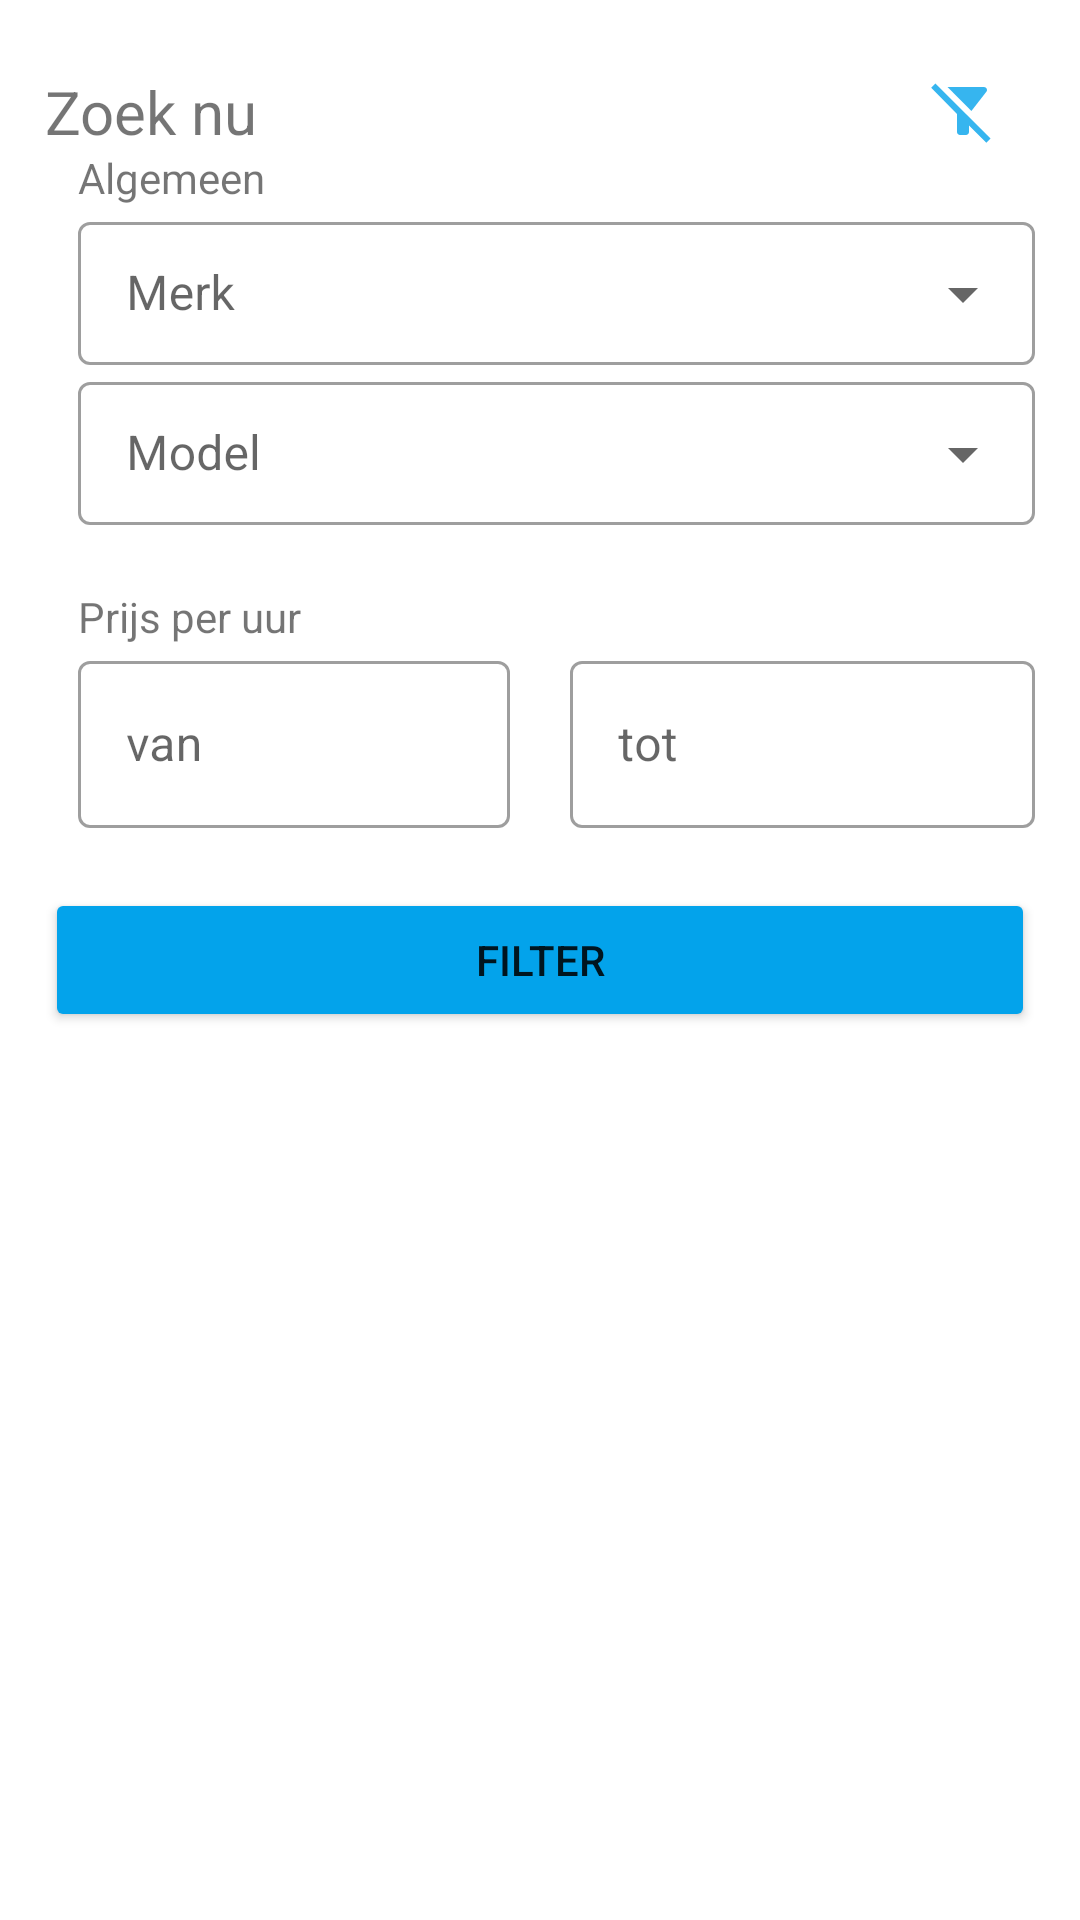

Icons on this 1080 × 1920 Android screen, each with the point to tap as (x,y):
remove filter: (961,113)
